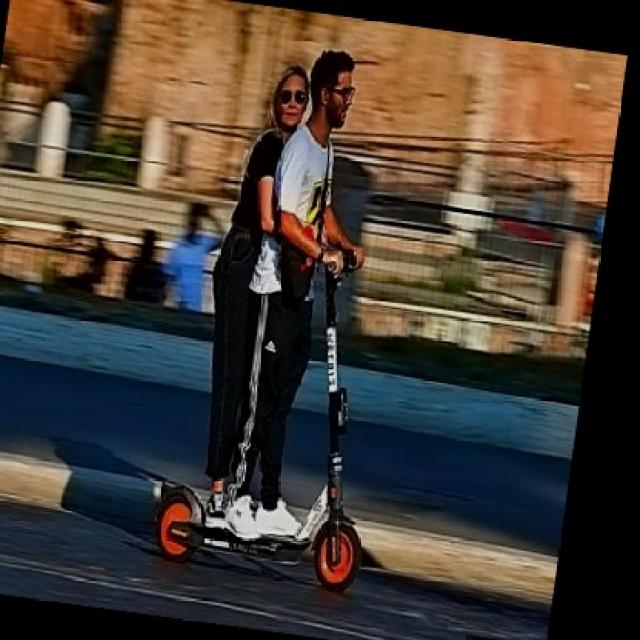bare_head: (313, 49, 361, 136), (264, 65, 314, 134)
human: (223, 50, 357, 535), (194, 60, 312, 530)
kickboard: (153, 469, 371, 601)
